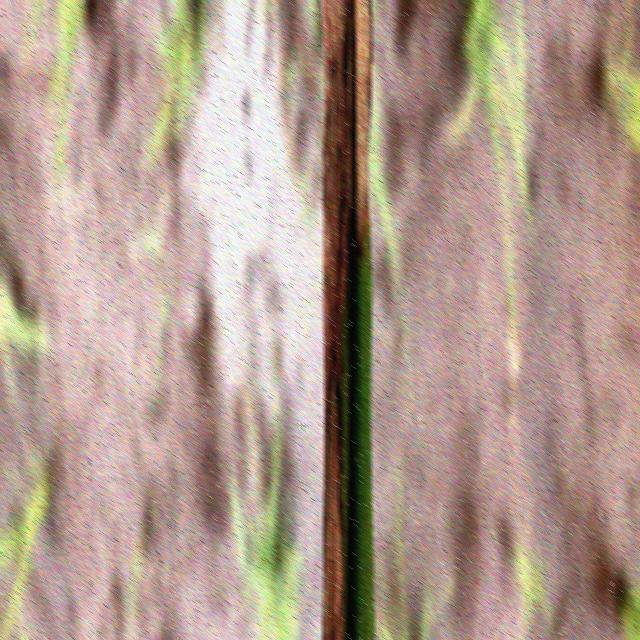BLB: (322, 3, 373, 640)
